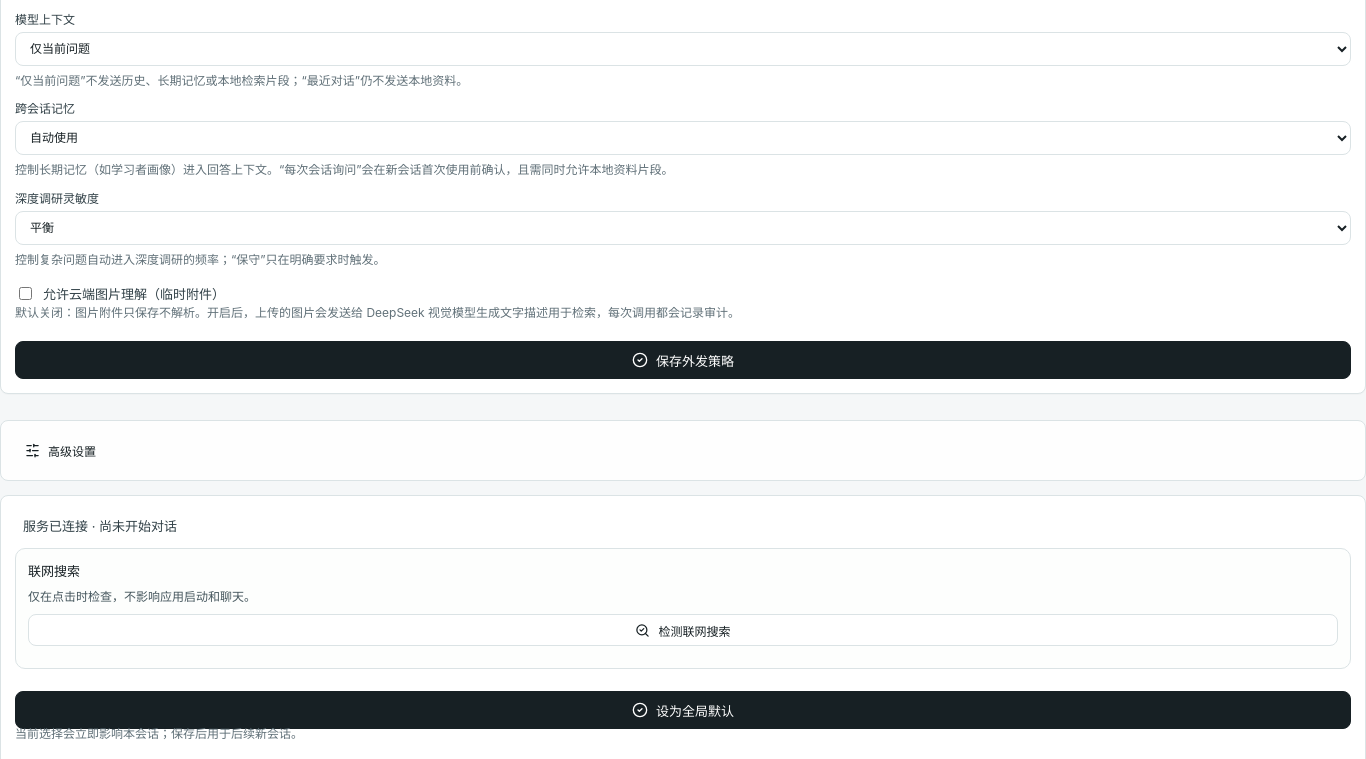
Test: SettingsPanel provider health › does not probe on render and reports a healthy preferred source after a click
(page scrolled)
Click the button "检测联网搜索". click: x=683, y=630
box: [28,614,1338,646]
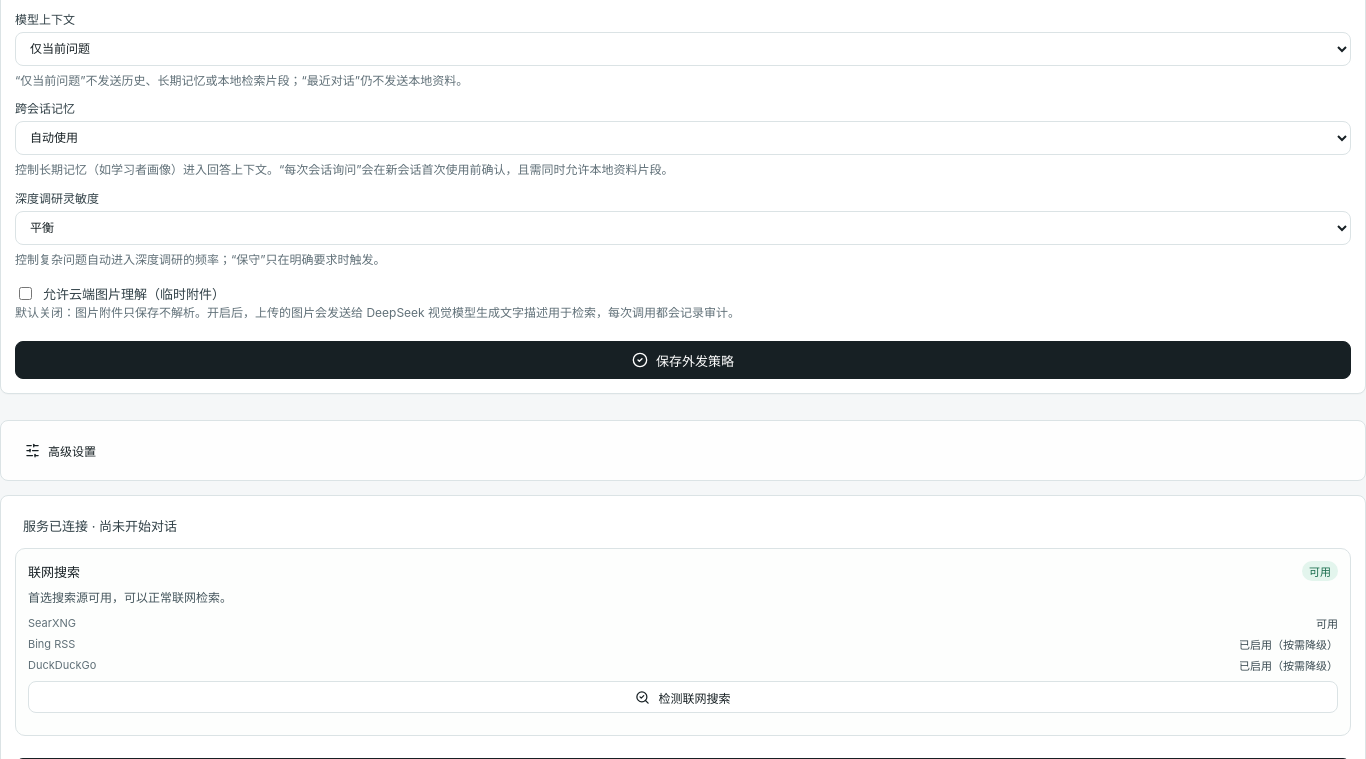
Result: the text "首选搜索源可用，可以正常联网检索。" is shown at [28,590,232,606]
